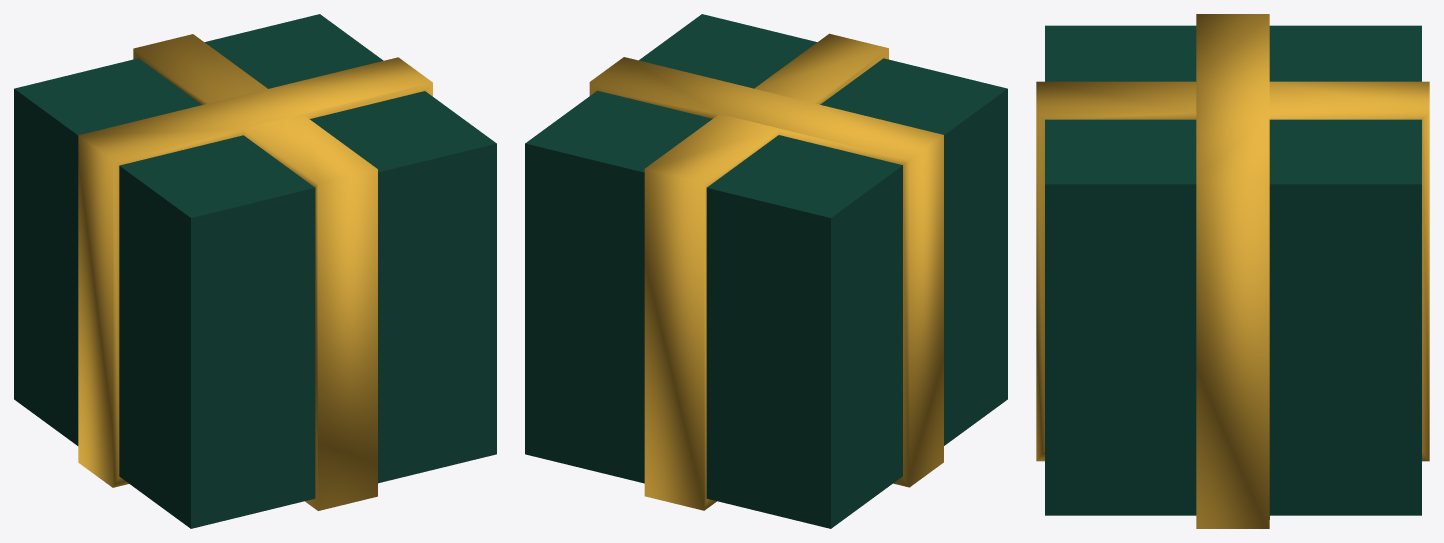
The model's file is giftSmallGreen.glb.
3 renders of one model, left to right at view 1: azimuth 30°, elevation 25°; view 2: azimuth 150°, elevation 25°; view 3: azimuth 270°, elevation 25°, orthographic. The views are drawn at different scales.
Parts seen in each view (by area): view 1: GiftSmallGreen; view 2: GiftSmallGreen; view 3: GiftSmallGreen.
Part boxes in pixels (box(x1,y1,x2,y2)): GiftSmallGreen: box(14, 14, 496, 528); GiftSmallGreen: box(525, 14, 1007, 528); GiftSmallGreen: box(1036, 14, 1429, 528).
Size of what is drawn, in the model's own units: 0.6371 by 0.6227 by 0.6371.
2 materials, 2 textured.
